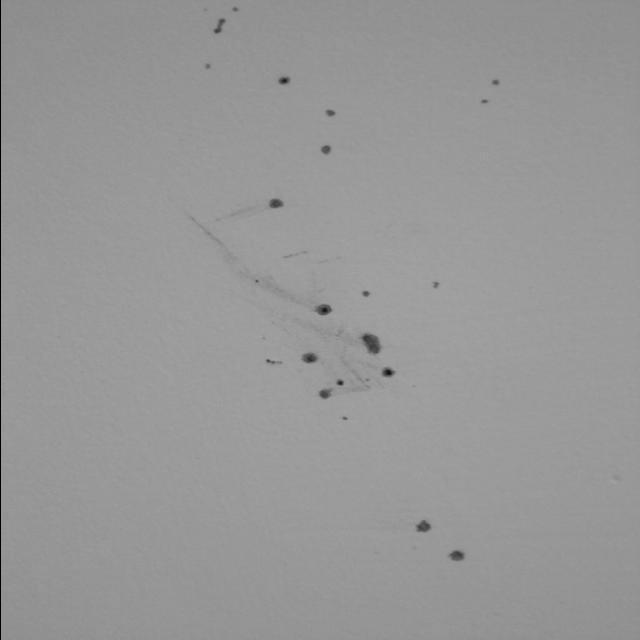pin holes: (353, 328, 393, 358), (264, 192, 292, 221), (309, 381, 337, 406), (259, 349, 287, 374), (315, 137, 338, 164), (210, 13, 231, 42), (308, 294, 334, 317), (269, 73, 298, 92), (446, 547, 469, 569), (299, 345, 323, 366), (318, 98, 340, 120), (412, 514, 433, 535), (425, 275, 449, 292), (249, 271, 269, 291), (374, 362, 395, 381), (199, 57, 220, 76), (208, 209, 224, 231), (335, 373, 352, 392), (353, 288, 376, 302), (488, 73, 502, 90), (358, 373, 372, 389), (229, 2, 242, 17), (478, 93, 490, 109), (342, 413, 355, 426), (197, 4, 210, 16)
